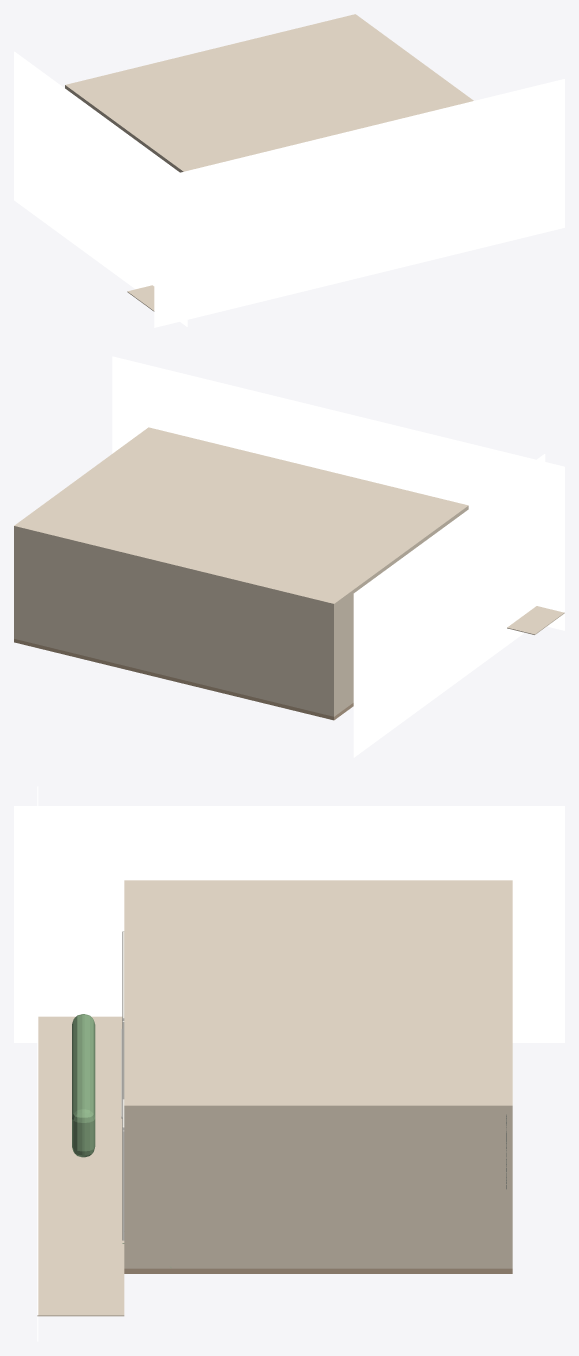
Rendered from CafeLookdev.fbx.
The picture shows the model from 3 angles, top to bottom: view 1: azimuth 30°, elevation 25°; view 2: azimuth 150°, elevation 25°; view 3: azimuth 270°, elevation 25°; orthographic projection. The views are drawn at different scales.
Visible parts, largest first — view 1: Sky_Front, Ceiling, Sky_Left, Street_Front; view 2: Ceiling, Wall_Back, Sky_Left, Sky_Front, WallL_B, Floor, Street_Front; view 3: Ceiling, Sky_Left, Wall_Right, Street_Front, Hedge_Front, Floor, Sky_Front, WallF_C, Wall_Back.
Boxes of the visible parts, x1=… form: Sky_Front: x1=154, y1=79, x2=564, y2=327; Ceiling: x1=65, y1=14, x2=473, y2=172; Sky_Left: x1=14, y1=51, x2=187, y2=326; Street_Front: x1=127, y1=285, x2=154, y2=311; Ceiling: x1=14, y1=427, x2=468, y2=607; Wall_Back: x1=14, y1=529, x2=333, y2=715; Sky_Left: x1=353, y1=454, x2=545, y2=757; Sky_Front: x1=112, y1=356, x2=564, y2=630; WallL_B: x1=330, y1=568, x2=387, y2=716; Floor: x1=14, y1=639, x2=353, y2=720; Street_Front: x1=507, y1=606, x2=564, y2=634; Ceiling: x1=124, y1=880, x2=512, y2=1110; Sky_Left: x1=14, y1=806, x2=564, y2=1042; Wall_Right: x1=124, y1=1111, x2=512, y2=1268; Street_Front: x1=37, y1=1016, x2=124, y2=1316; Hedge_Front: x1=72, y1=1014, x2=95, y2=1157; Floor: x1=124, y1=1268, x2=512, y2=1273; Sky_Front: x1=37, y1=786, x2=38, y2=1341; WallF_C: x1=124, y1=1111, x2=129, y2=1268; Wall_Back: x1=507, y1=1111, x2=512, y2=1268.
Size of the model in its own units: 13 by 4.5 by 9.5.
